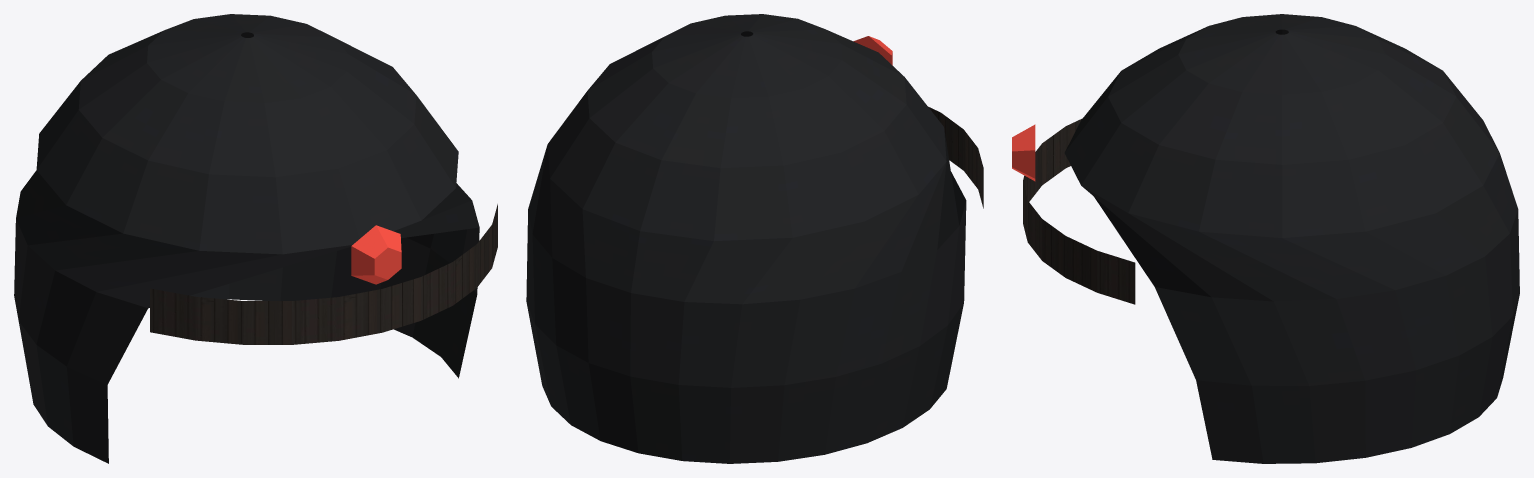
Rendered from eq_present_3_head.glb.
3 renders of one model, left to right at view 1: azimuth 30°, elevation 25°; view 2: azimuth 150°, elevation 25°; view 3: azimuth 270°, elevation 25°, orthographic. The views are drawn at different scales.
Parts seen in each view (by area): view 1: eq_present_3_head; view 2: eq_present_3_head; view 3: eq_present_3_head.
Boxes of the visible parts, bbox=[...] form: eq_present_3_head: bbox=[14, 14, 497, 463]; eq_present_3_head: bbox=[526, 14, 983, 463]; eq_present_3_head: bbox=[1012, 14, 1519, 463].
Bounding box in the file's own units: 0.3047 × 0.2657 × 0.3538.
3 materials, 3 textured.
